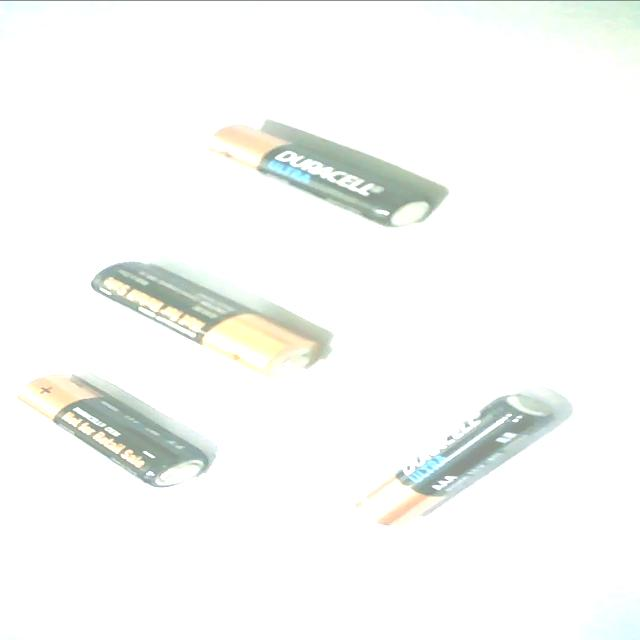AA: (84, 258, 328, 382), (11, 364, 212, 492)
AAA: (344, 384, 566, 534), (196, 118, 447, 232)
